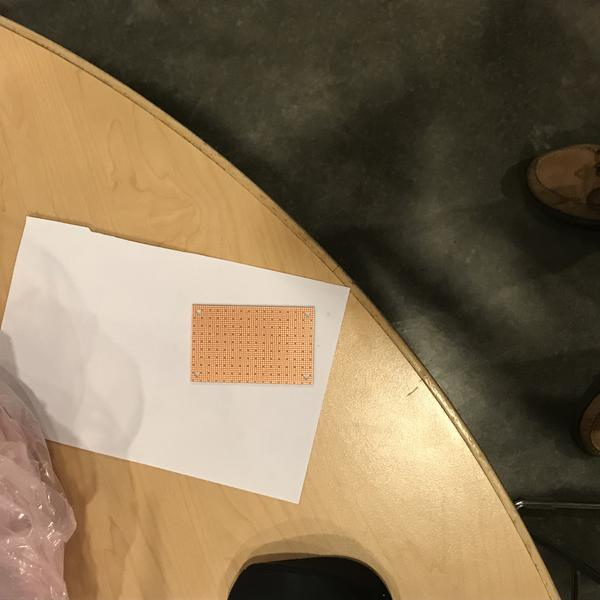board: (186, 301, 317, 387)
